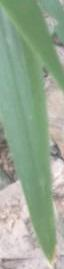Wheat: (3, 5, 44, 97), (9, 104, 38, 144), (30, 164, 50, 212)
